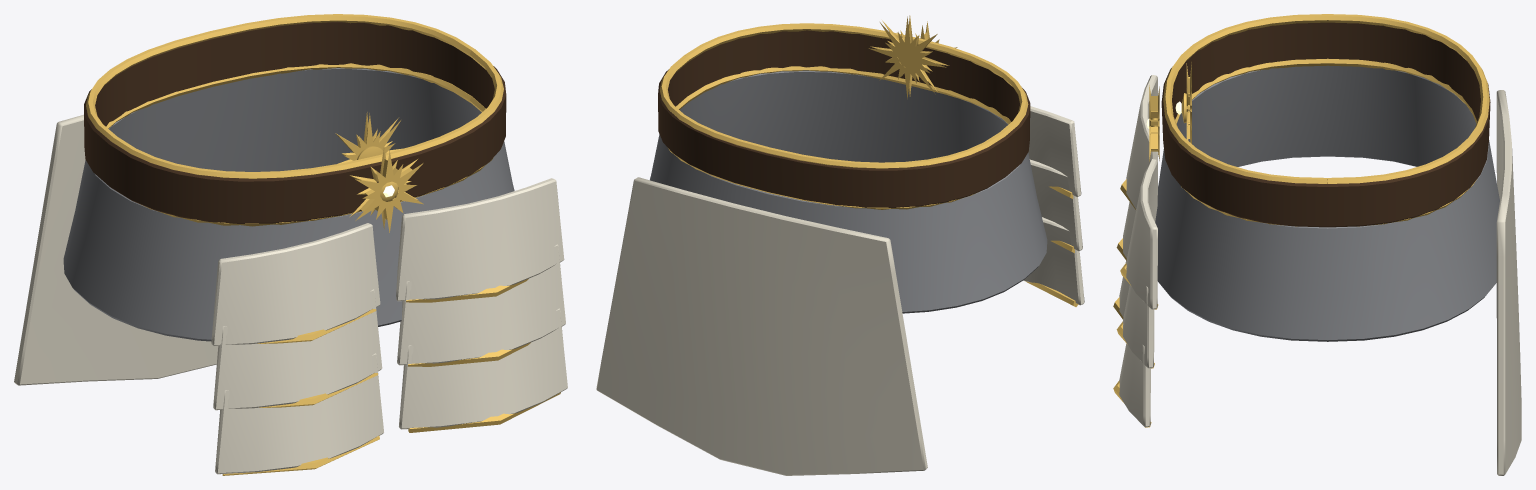
File: asc_seraph_paladin_inner.glb
The picture shows the model from 3 angles, left to right: view 1: azimuth 30°, elevation 25°; view 2: azimuth 150°, elevation 25°; view 3: azimuth 270°, elevation 25°; orthographic projection. The views are drawn at different scales.
Visible parts, largest first — view 1: asc_seraph_paladin_inner, AT_thigh_L, AT_thigh_R; view 2: asc_seraph_paladin_inner, AT_thigh_R; view 3: asc_seraph_paladin_inner, AT_thigh_L, AT_thigh_R.
Boxes of the visible parts, x1=… form: asc_seraph_paladin_inner: x1=14, y1=14, x2=514, y2=385; AT_thigh_L: x1=396, y1=178, x2=567, y2=432; AT_thigh_R: x1=211, y1=223, x2=383, y2=475; asc_seraph_paladin_inner: x1=596, y1=15, x2=1047, y2=475; AT_thigh_R: x1=1023, y1=106, x2=1084, y2=306; asc_seraph_paladin_inner: x1=1146, y1=14, x2=1521, y2=475; AT_thigh_L: x1=1113, y1=159, x2=1158, y2=427; AT_thigh_R: x1=1113, y1=75, x2=1158, y2=319.
Bounding box in the file's own units: 0.5145 × 0.4605 × 0.4717.
